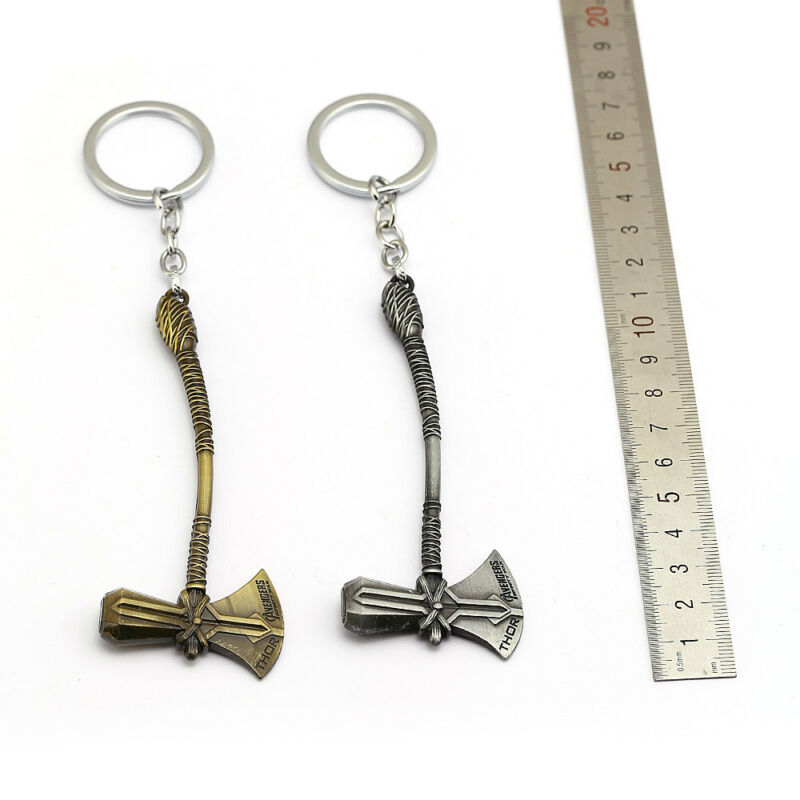THOR Hammer: (334, 245, 528, 686), (113, 272, 292, 691)
